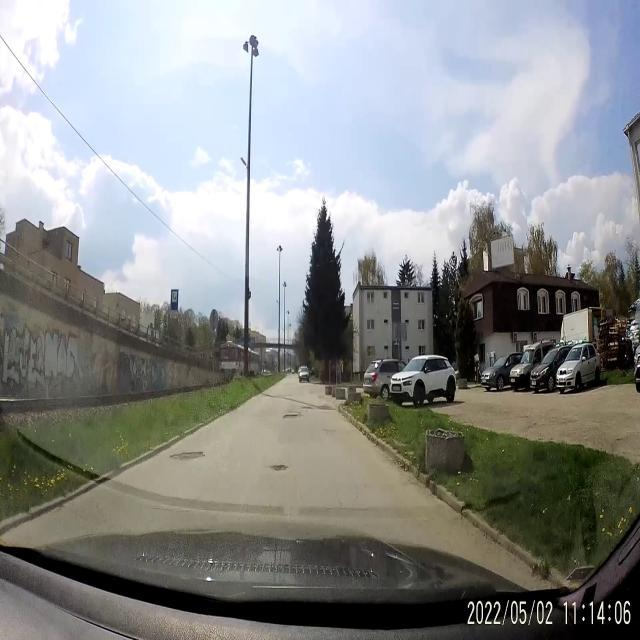Pothole: (166, 448, 207, 466), (266, 452, 294, 478), (282, 407, 300, 426)
